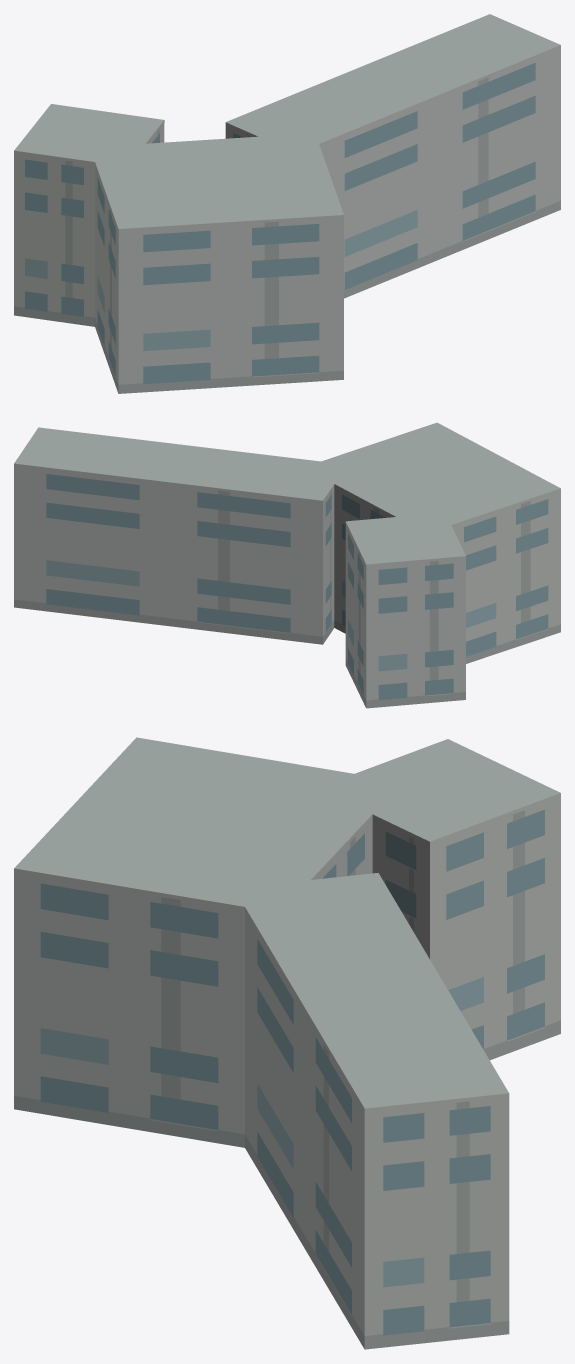
The model's file is residential-611f8ba8-7e72-4fc0-8507-d35bdf8f2ecc.glb.
The picture shows the model from 3 angles, top to bottom: view 1: azimuth 30°, elevation 25°; view 2: azimuth 150°, elevation 25°; view 3: azimuth 270°, elevation 25°; orthographic projection. The views are drawn at different scales.
Parts seen in each view (by area): view 1: residential-611f8ba8-7e72-4fc0-8507-d35bdf8f2ecc.tmp; view 2: residential-611f8ba8-7e72-4fc0-8507-d35bdf8f2ecc.tmp; view 3: residential-611f8ba8-7e72-4fc0-8507-d35bdf8f2ecc.tmp.
Boxes of the visible parts, x1=… form: residential-611f8ba8-7e72-4fc0-8507-d35bdf8f2ecc.tmp: x1=14, y1=14, x2=560, y2=393; residential-611f8ba8-7e72-4fc0-8507-d35bdf8f2ecc.tmp: x1=14, y1=422, x2=560, y2=708; residential-611f8ba8-7e72-4fc0-8507-d35bdf8f2ecc.tmp: x1=14, y1=737, x2=560, y2=1349.
Size of the model in its own units: 50.4 by 15.25 by 31.38.
